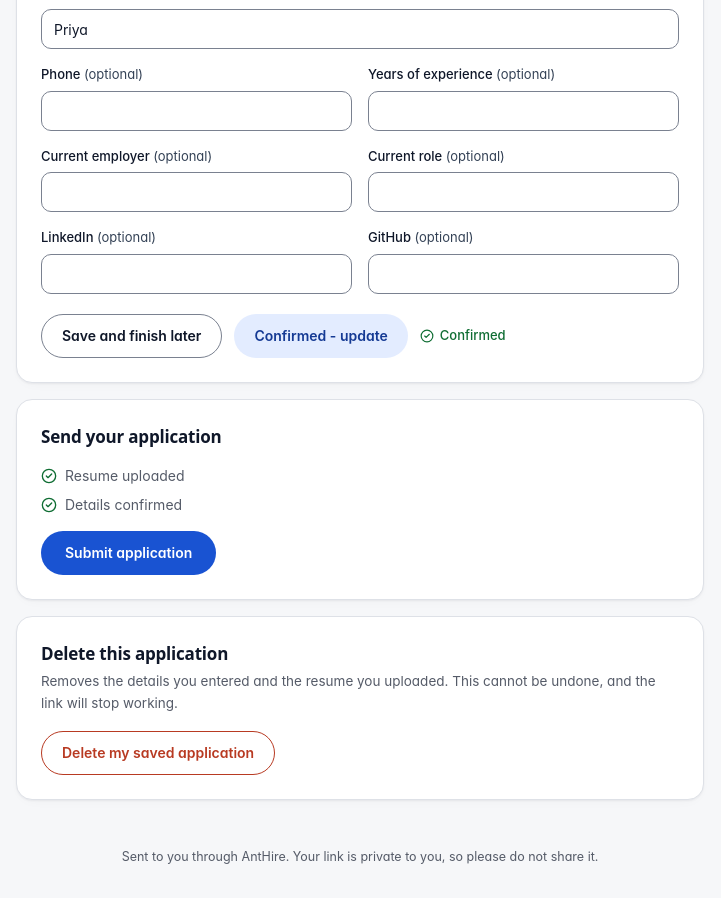
Test: submitting › surfaces a refusal rather than failing silently
This screenshot has width=721, height=898.
(page scrolled)
Click the button "Submit application" at (129, 553), box x1=41 y1=531 x2=216 y2=575
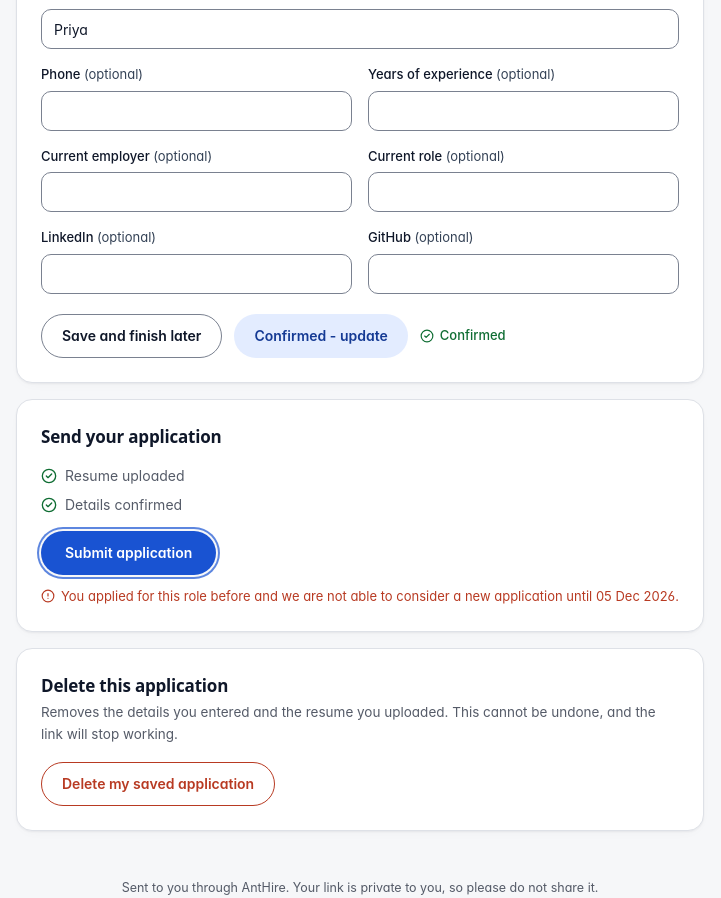
Now the text "until 05 Dec 2026" is shown, box x1=61 y1=588 x2=679 y2=604
